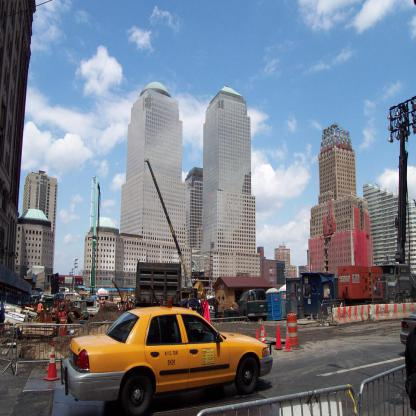Car: (64, 296, 271, 416)
